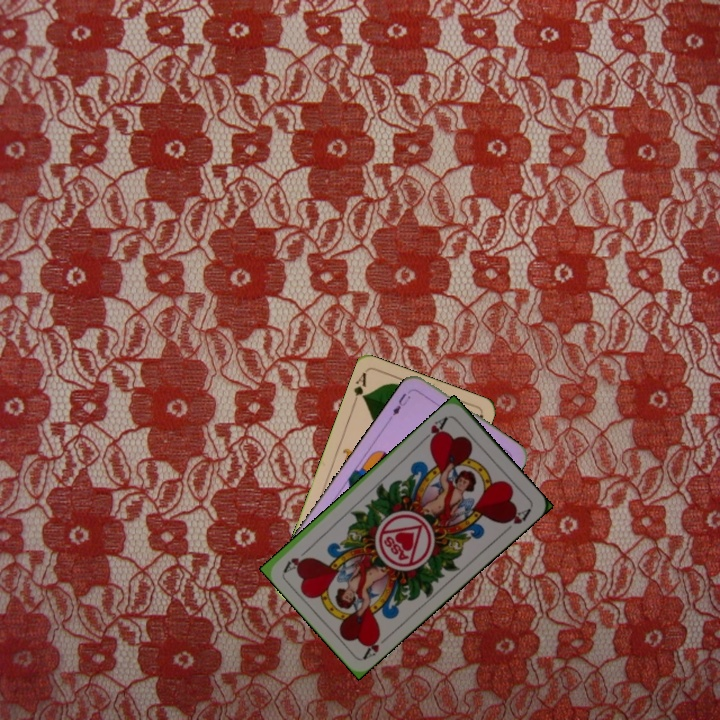EU: (388, 385, 415, 418)
GA: (348, 368, 369, 408)
HA: (359, 629, 393, 662), (419, 412, 451, 447)
